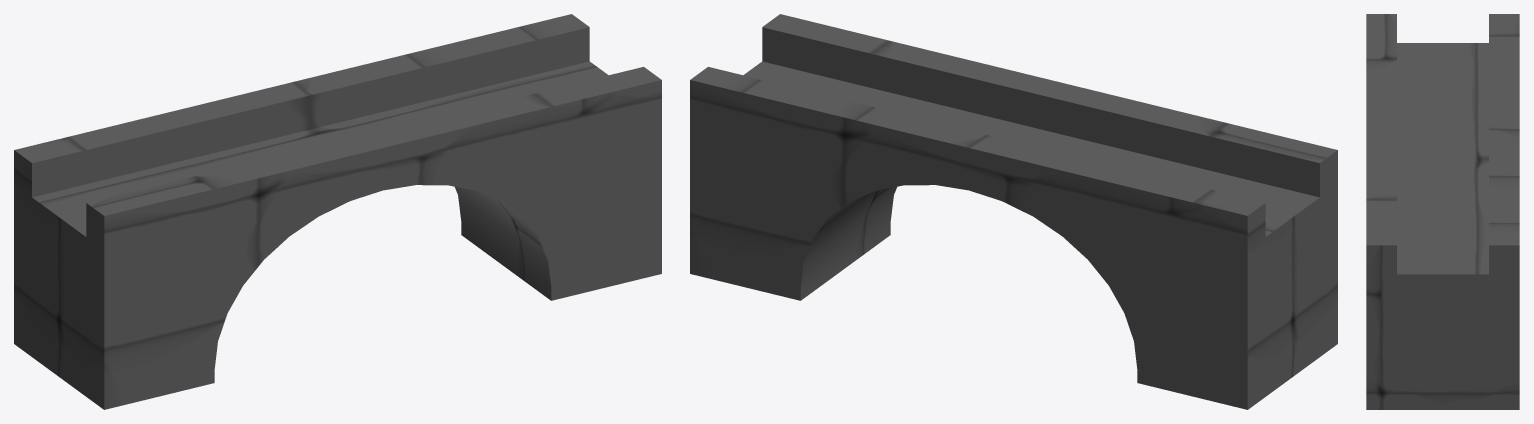
Rendered from Puente.fbx.
3 renders of one model, left to right at view 1: azimuth 30°, elevation 25°; view 2: azimuth 150°, elevation 25°; view 3: azimuth 270°, elevation 25°, orthographic. The views are drawn at different scales.
Parts seen in each view (by area): view 1: Puente; view 2: Puente; view 3: Puente.
Boxes of the visible parts, <box> form: Puente: <box>14,14,661,409</box>; Puente: <box>690,14,1337,409</box>; Puente: <box>1366,14,1519,409</box>.
Bounding box in the file's own units: 3610 × 1200 × 1010.
